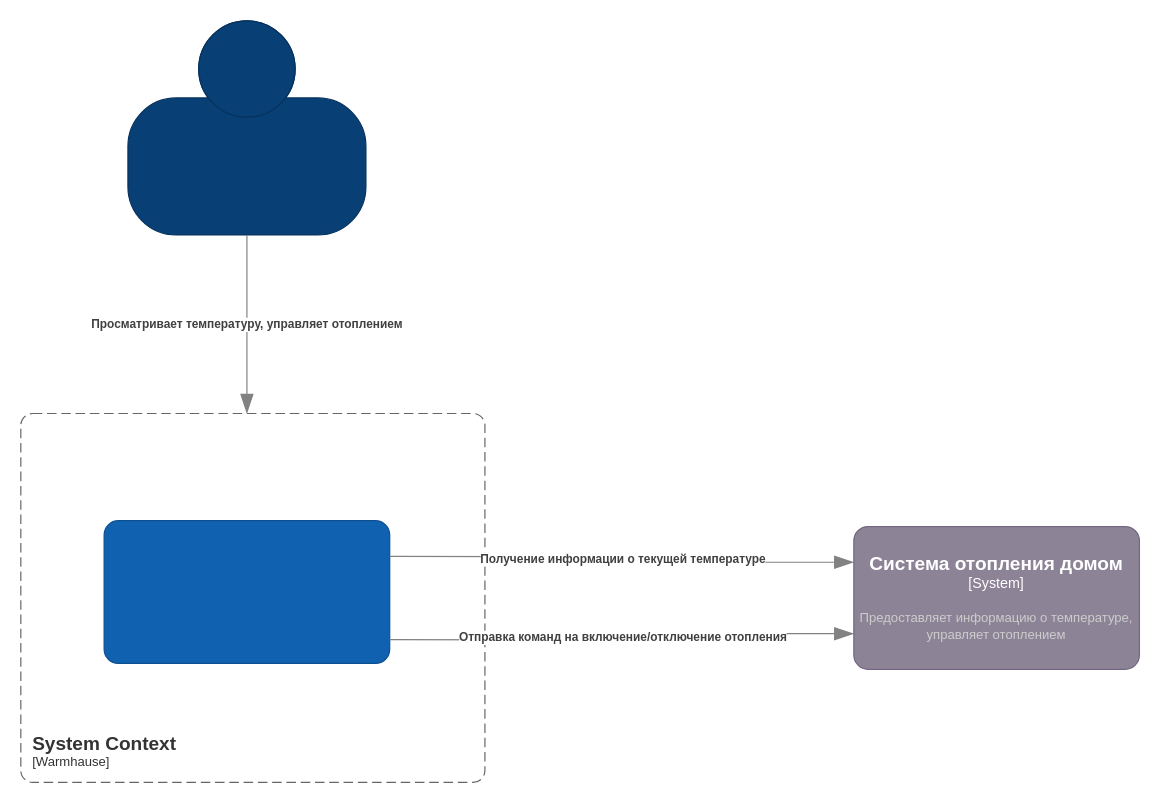
Some shapes in this 1160 by 803 pixel diagram are drawn without their labels. Each missing label, with the centre of its shape:
User [Person] Взаимодействует через web-браузер или мобильное приложение: (x=246, y=127)
Управление отоплением в доме [Software System]: (x=246, y=591)
